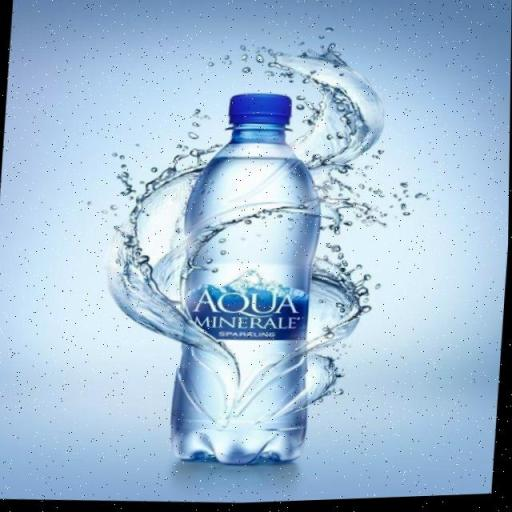plastic: (163, 87, 336, 476)
